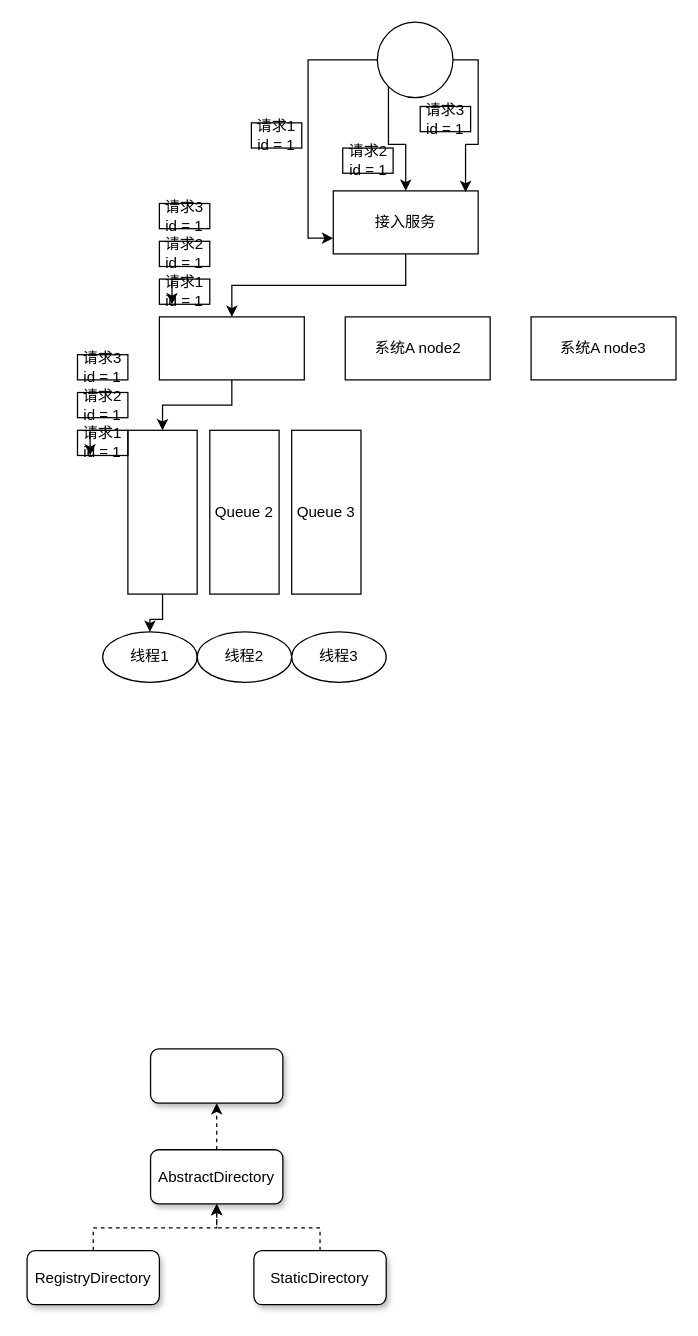
This 698x1336 diagram has some shape labels left out. Here are the shapes that lost their labels. From the top down, the centre of each, then its label:
pixel 414 59: 用户
pixel 231 348: 系统A node1
pixel 162 511: Queue 1
pixel 217 1077: Directory
